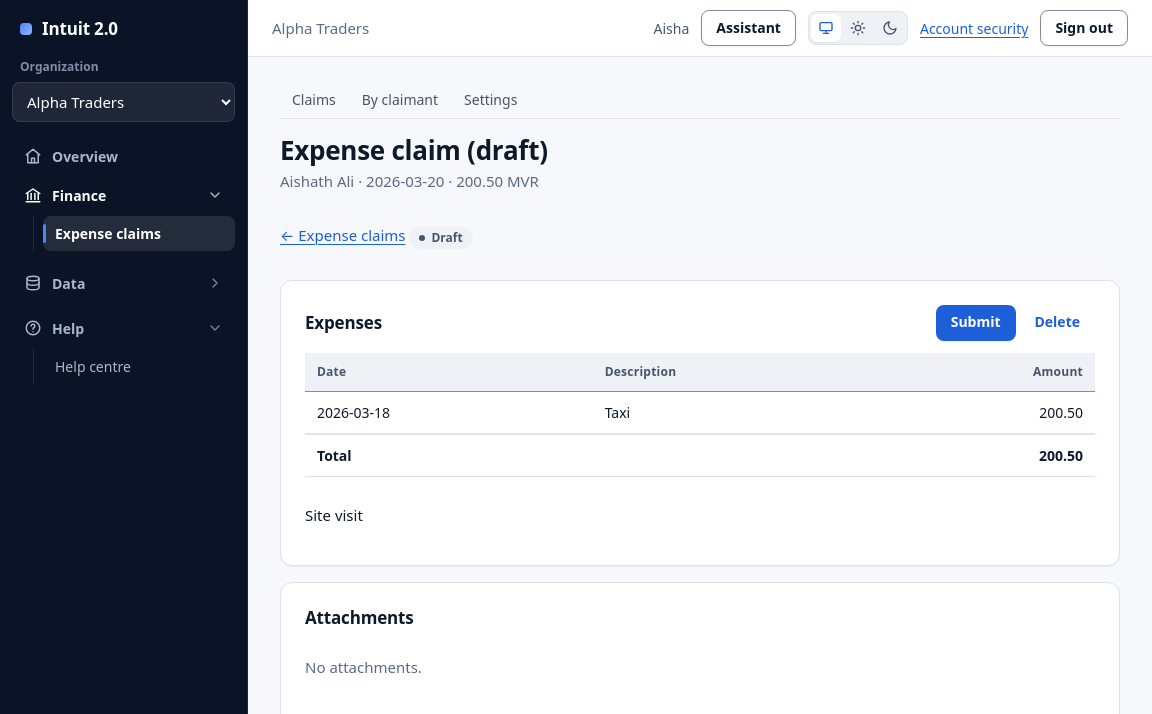
Test: expense policy at submission (R-04) › shows a hard block without any way to override it
This screenshot has width=1152, height=714.
Click the button "Submit". click: (976, 323)
box: x1=936 y1=305 x2=1016 y2=341
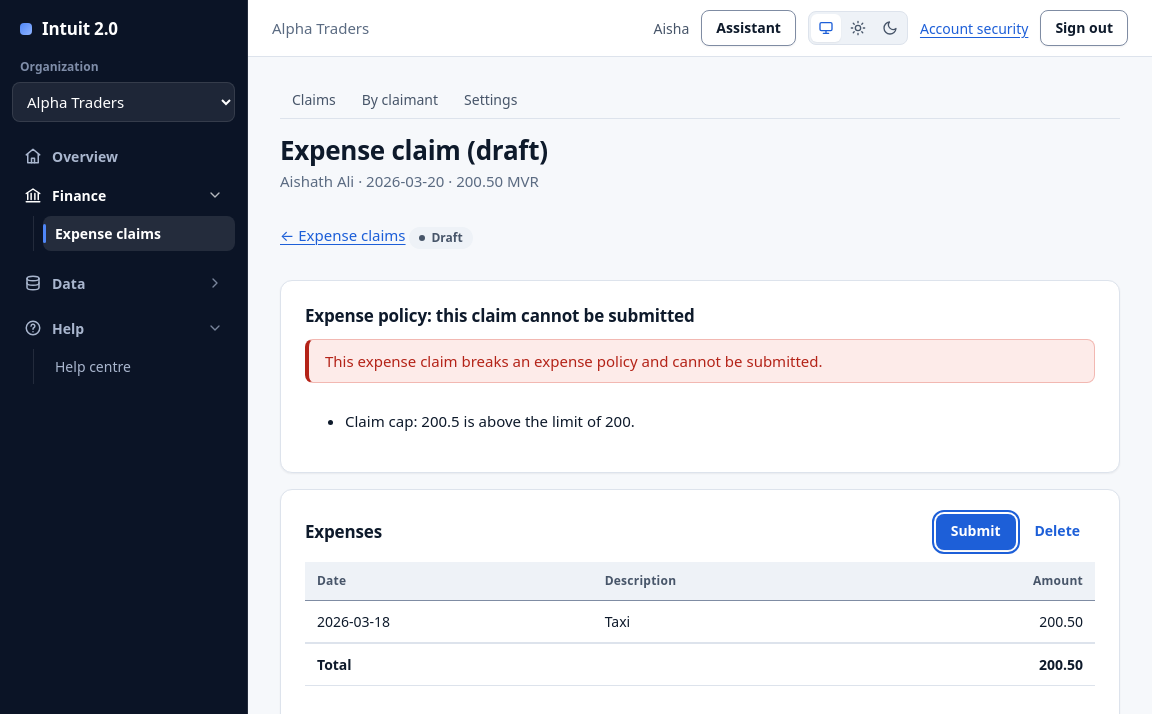
Result: the heading "Expense policy: this claim cannot be submitted" is shown at x1=305 y1=305 x2=695 y2=327
Result: the list item "Claim cap: 200.5 is above the limit of 200." is shown at x1=345 y1=411 x2=635 y2=431
